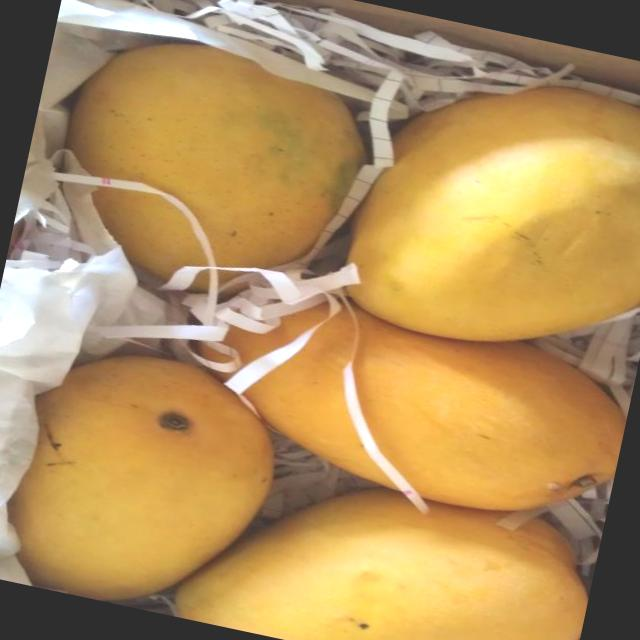Mango: (172, 270, 638, 538), (39, 19, 384, 321), (332, 48, 640, 379), (0, 331, 292, 630), (169, 445, 601, 640)
